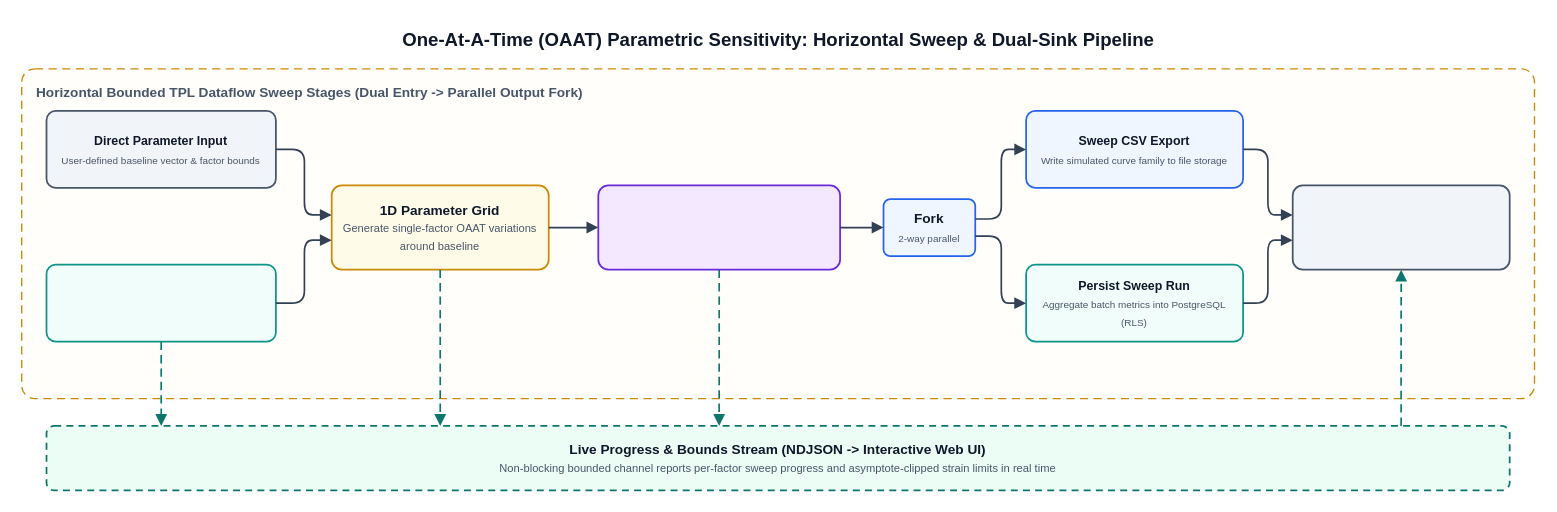
The diagram is 1557 pixels wide and 512 high, and some of its shapes have lost their labels. Each missing label, with the box of its shape:
Experimental Fit Lookup Load calibrated constants from database by ID: (45, 263, 276, 342)
Interactive Sensitivity UI Apache ECharts multi-curve overlay & CSV export: (1291, 184, 1510, 270)
Simulation & Guard Evaluate stress relaxation & clip asymptote domain bounds: (597, 184, 840, 270)
